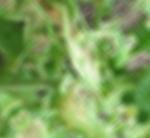Tomato leaf mosaic virus: (37, 10, 114, 92)
